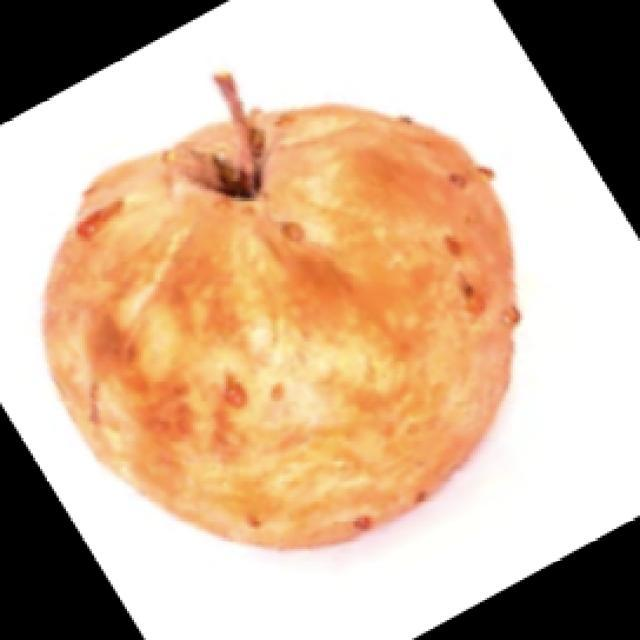Rotten: (32, 100, 520, 565)
